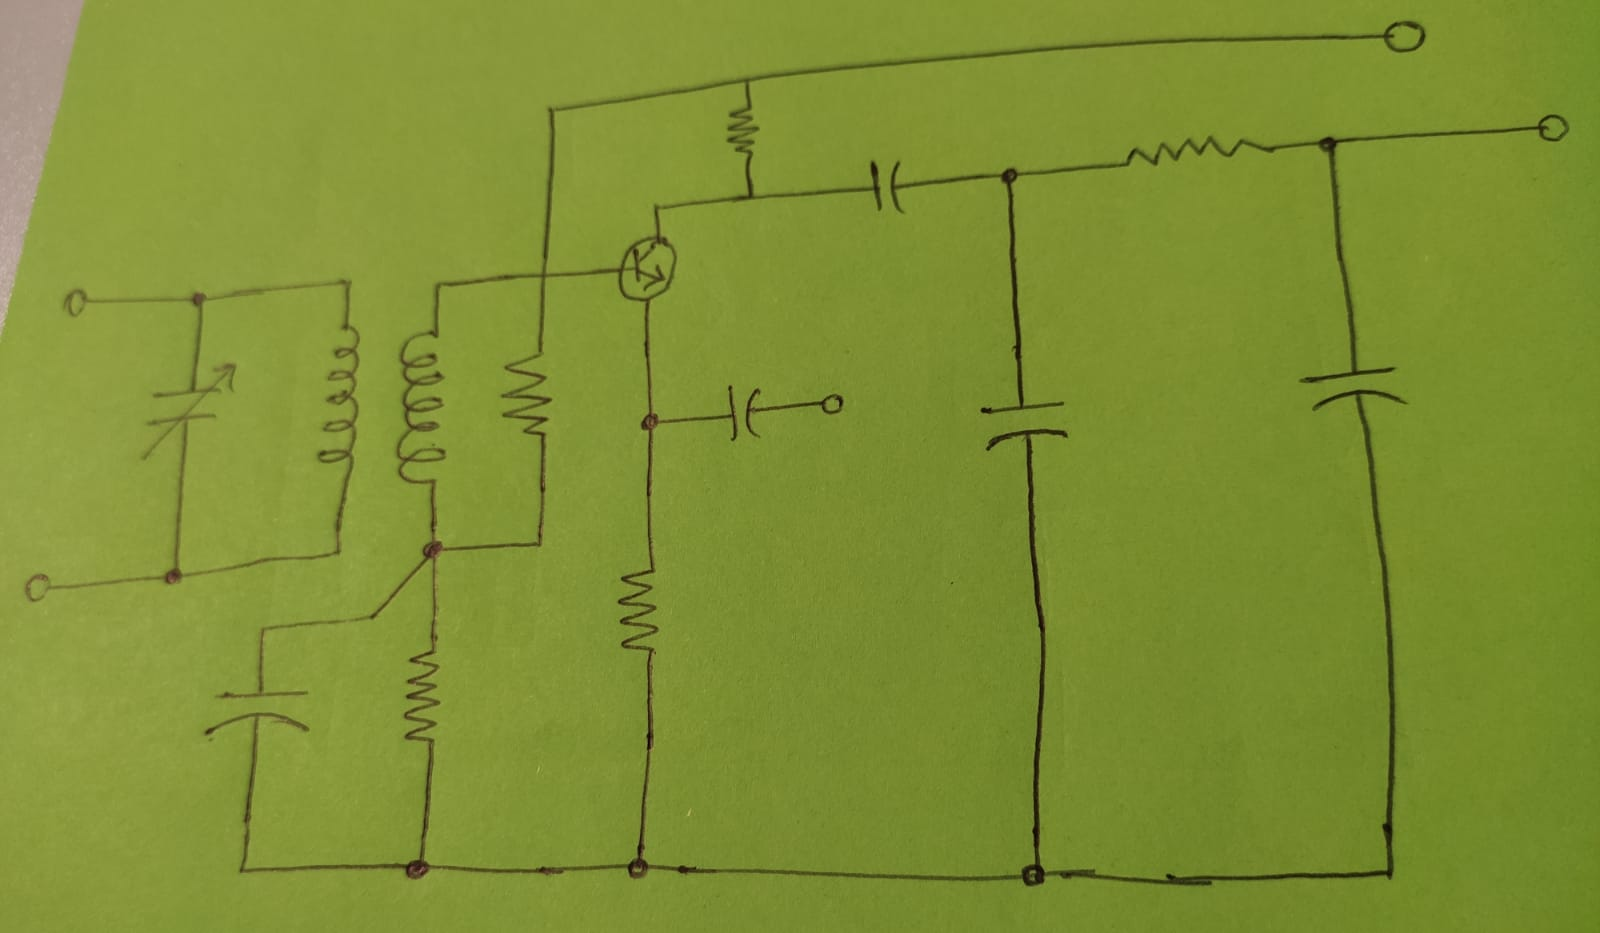capacitor.unpolarized: (144, 362, 237, 458), (207, 688, 311, 734), (1299, 367, 1407, 411), (982, 398, 1067, 447), (724, 383, 765, 442), (864, 161, 908, 214)
junction: (416, 534, 450, 566), (634, 409, 674, 435), (1016, 857, 1051, 887), (995, 163, 1025, 197), (1372, 857, 1405, 887), (625, 849, 652, 877), (403, 853, 433, 879), (159, 562, 187, 589), (1316, 136, 1344, 161), (187, 289, 211, 315), (736, 184, 762, 208), (526, 532, 551, 555), (363, 606, 385, 628), (253, 621, 275, 641), (542, 102, 563, 122), (533, 267, 554, 287), (326, 543, 348, 563), (338, 273, 358, 293), (233, 857, 251, 877), (430, 278, 450, 295), (736, 74, 759, 89), (650, 201, 667, 218)
resistor: (1123, 136, 1272, 168), (499, 345, 550, 440), (614, 556, 661, 656), (401, 644, 441, 746), (723, 99, 762, 161)
terminal: (1373, 14, 1427, 56), (1526, 110, 1568, 146), (811, 389, 851, 419), (24, 571, 61, 601), (64, 283, 95, 317)
transformer: (316, 322, 447, 490)
transistor: (617, 233, 680, 303)
